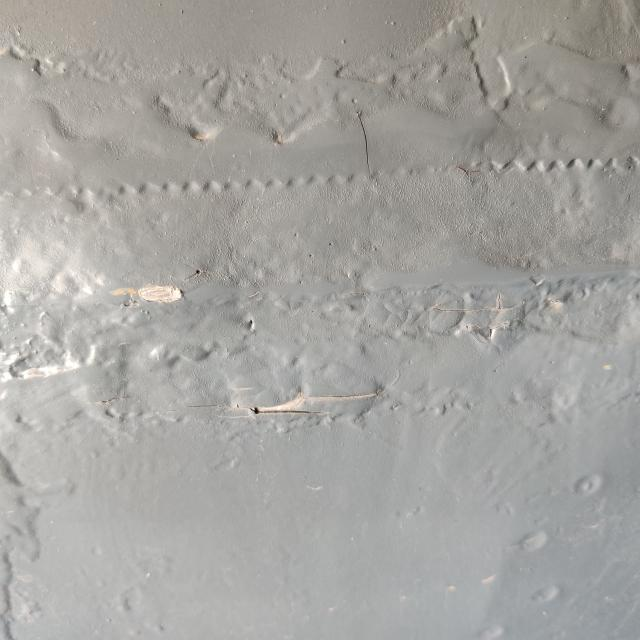crack: (182, 378, 396, 428), (425, 286, 529, 350), (347, 105, 380, 184)
paint-off: (102, 270, 190, 316)
